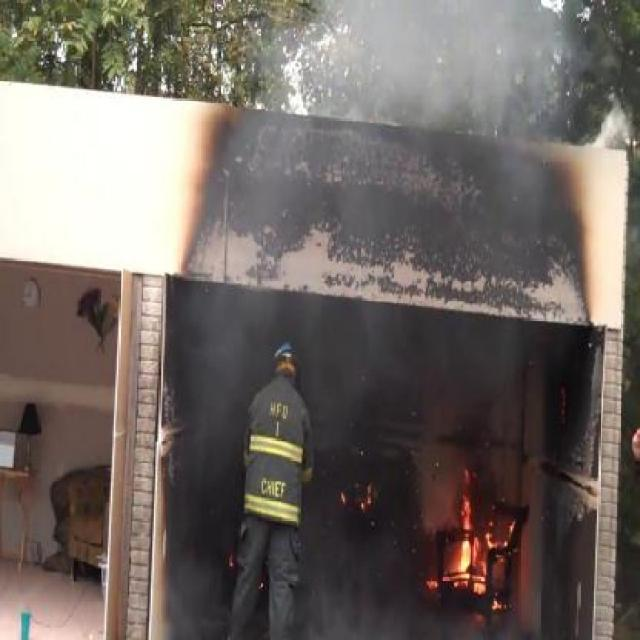fire: (438, 448, 514, 608)
smoke: (206, 10, 591, 282), (170, 298, 415, 640)
